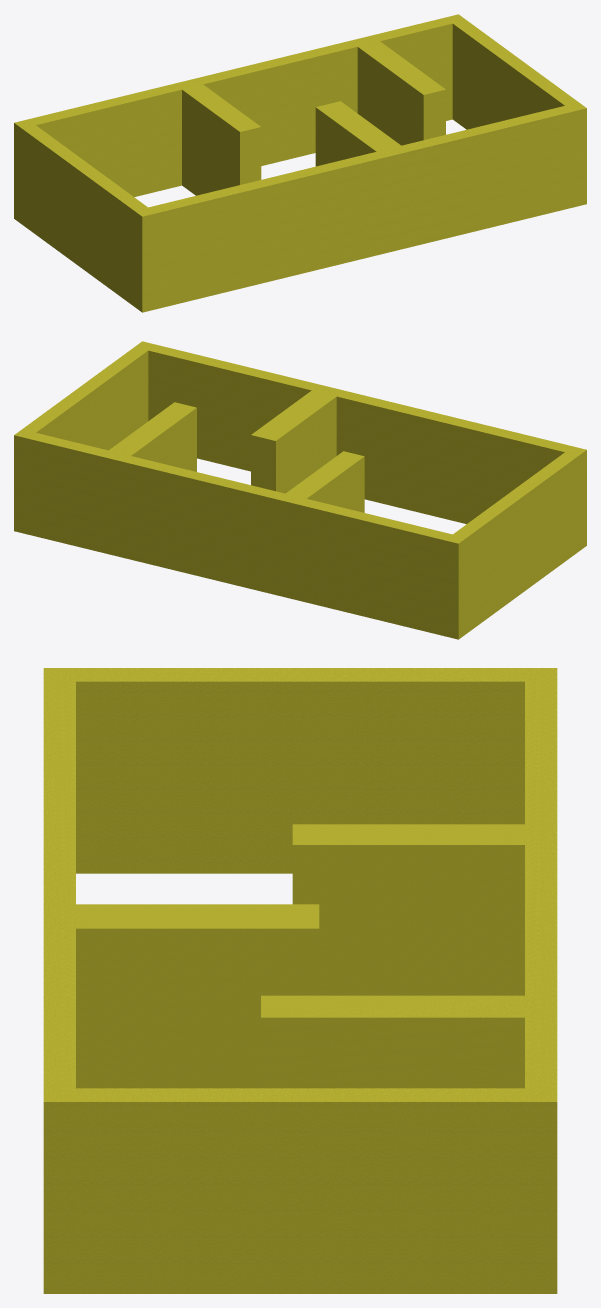
The model's file is Level2.obj.
The picture shows the model from 3 angles, top to bottom: view 1: azimuth 30°, elevation 25°; view 2: azimuth 150°, elevation 25°; view 3: azimuth 270°, elevation 25°; orthographic projection. The views are drawn at different scales.
Visible parts, largest first — view 1: Rectangle01, Rectangle05, Rectangle03, Rectangle04; view 2: Rectangle01, Rectangle04, Rectangle03, Rectangle05; view 3: Rectangle01, Rectangle04, Rectangle05, Rectangle03.
Part boxes in pixels (x1,y1,x2,y2): Rectangle01: [14, 14, 586, 312]; Rectangle05: [182, 84, 261, 195]; Rectangle03: [357, 40, 445, 145]; Rectangle04: [315, 101, 401, 166]; Rectangle01: [14, 341, 586, 639]; Rectangle04: [251, 390, 336, 493]; Rectangle03: [108, 402, 196, 471]; Rectangle05: [285, 451, 364, 512]; Rectangle01: [43, 668, 557, 1293]; Rectangle04: [74, 904, 319, 1088]; Rectangle05: [292, 824, 525, 995]; Rectangle03: [261, 995, 528, 1088].
Size of the model in its own units: 8 by 1.65 by 4.
